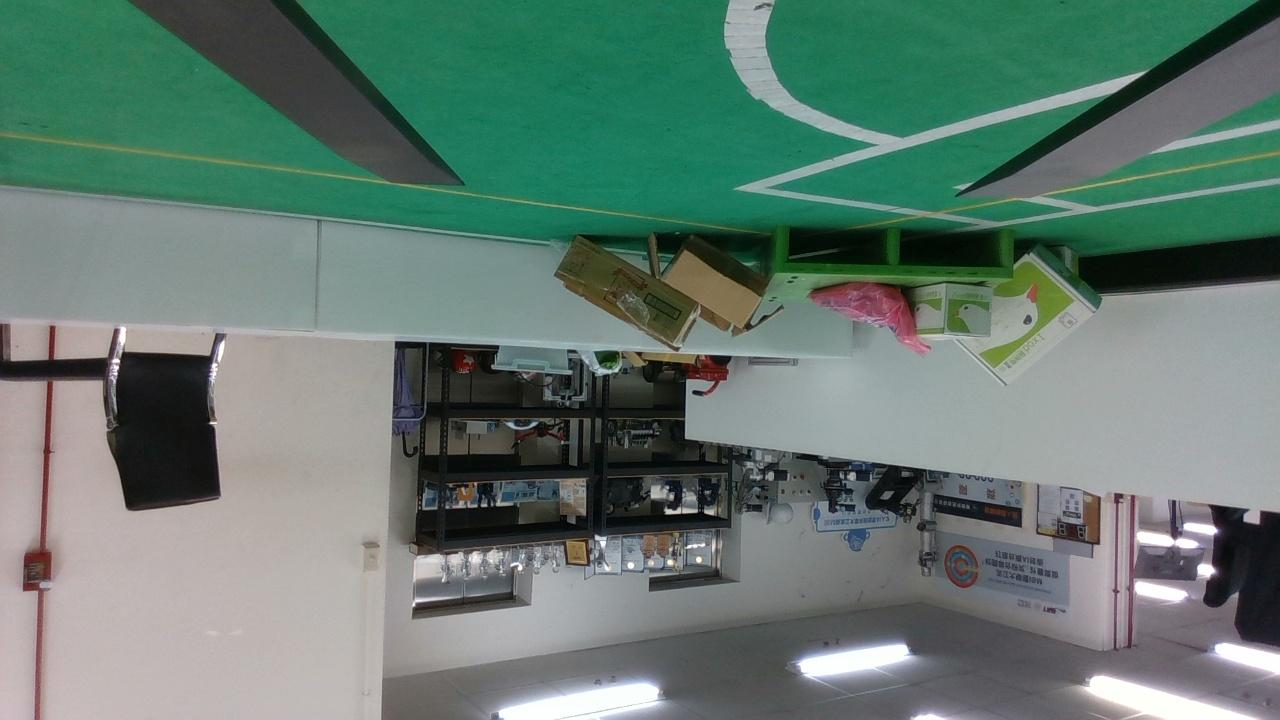Pallet: (775, 227, 1015, 282)
